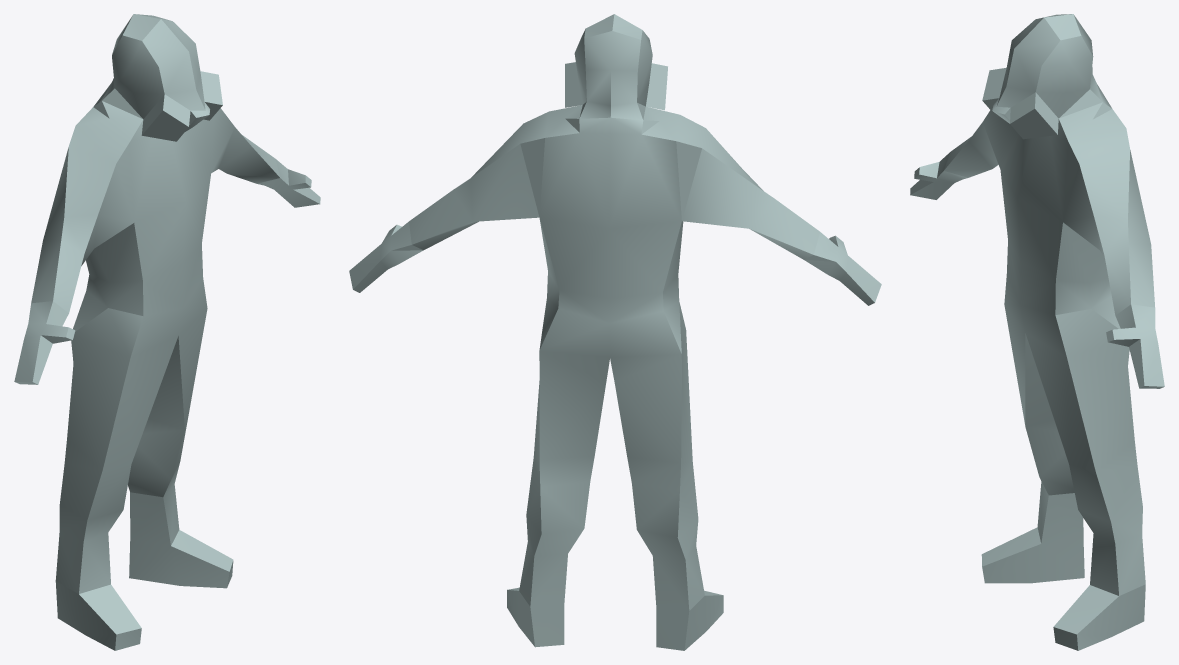
3 views of the same model, side by side, from view 1: azimuth 30°, elevation 25°; view 2: azimuth 150°, elevation 25°; view 3: azimuth 270°, elevation 25° (orthographic). The views are drawn at different scales.
Visible parts, largest first — view 1: split_parent_0; view 2: split_parent_0; view 3: split_parent_0.
Part boxes in pixels (x1,y1,x2,y2): split_parent_0: (14,14,320,650); split_parent_0: (349,14,881,650); split_parent_0: (910,14,1164,650).
Size of the model in its own units: 0.7278 by 1 by 0.391.
